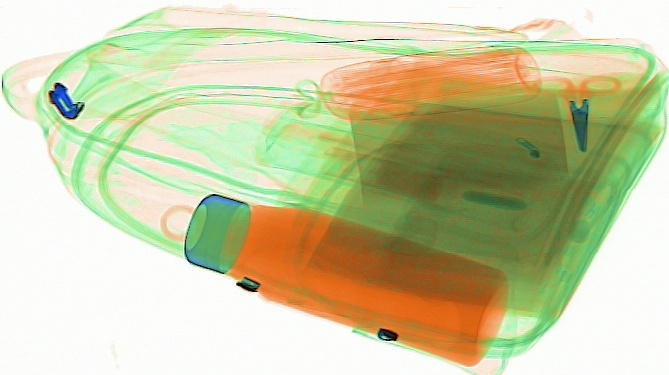scissors: (531, 73, 622, 154)
